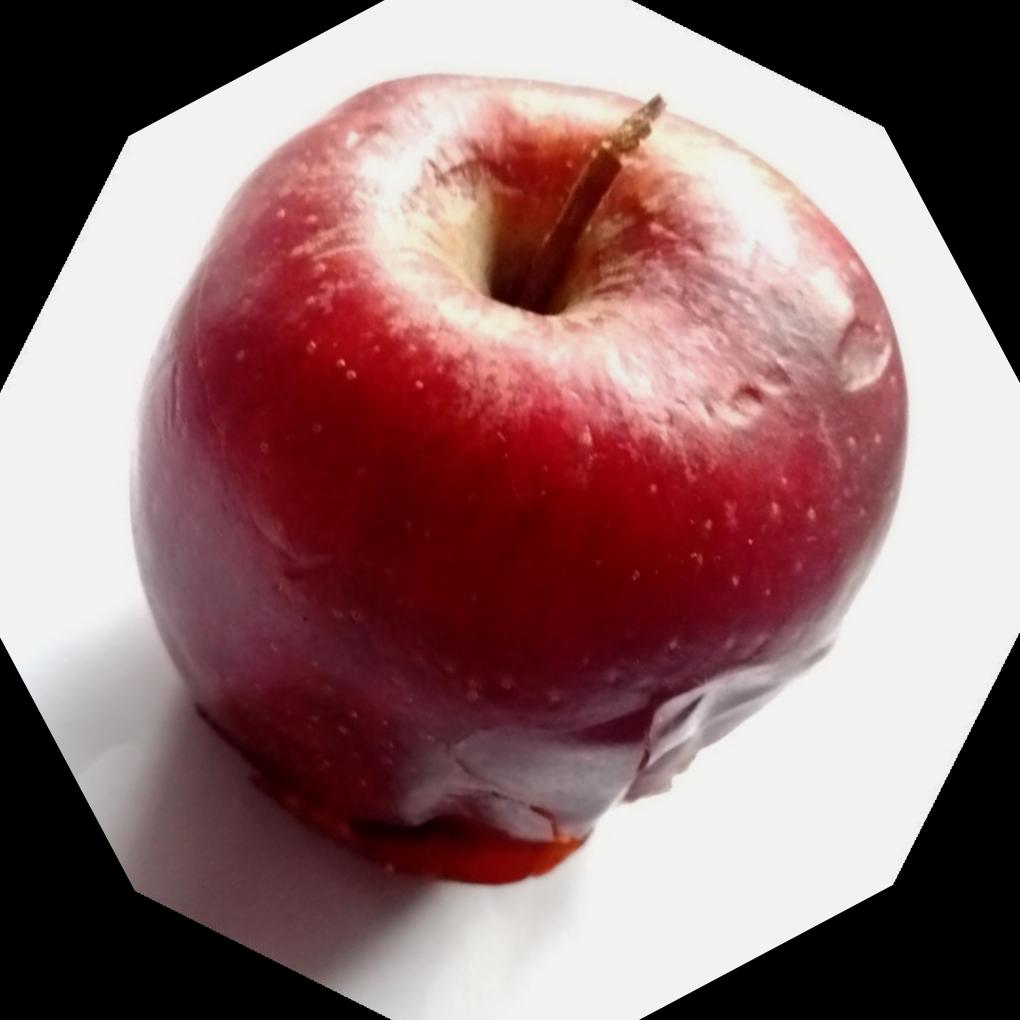FreshOrange: (126, 67, 913, 890)
